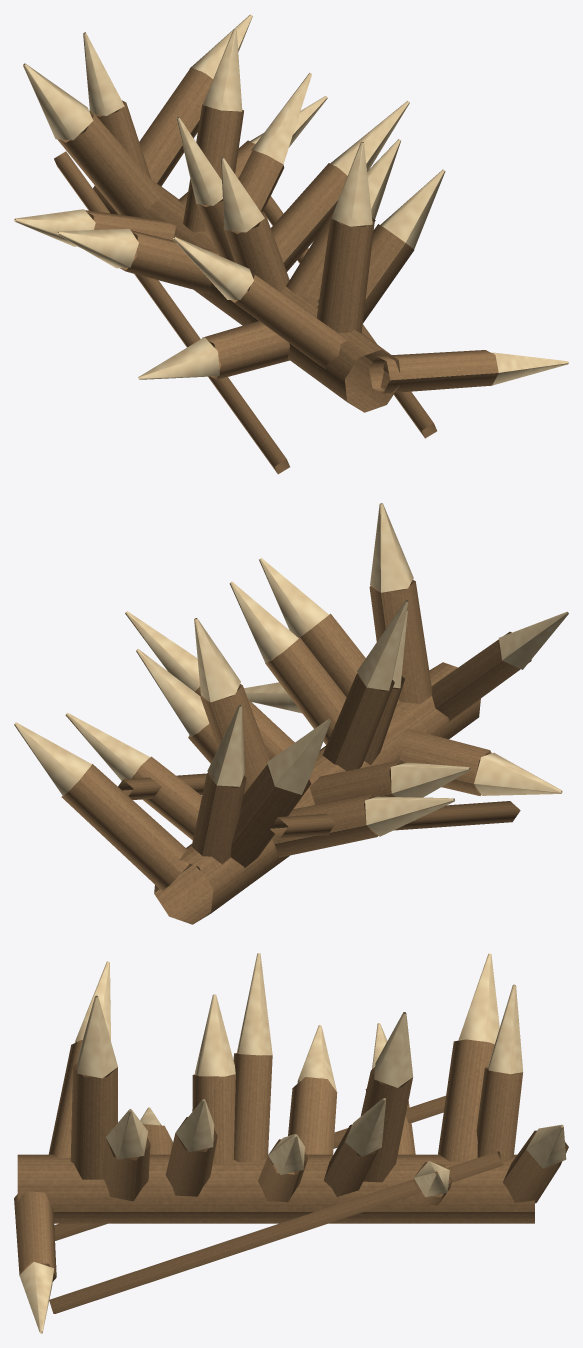
Rendered from fence_spike.glb.
3 renders of one model, top to bottom at view 1: azimuth 30°, elevation 25°; view 2: azimuth 150°, elevation 25°; view 3: azimuth 270°, elevation 25°, orthographic. The views are drawn at different scales.
Visible parts, largest first — view 1: fence_spike; view 2: fence_spike; view 3: fence_spike.
Part boxes in pixels (x1,y1,x2,y2): fence_spike: (14,14,568,474); fence_spike: (14,503,568,924); fence_spike: (14,953,568,1333).
Bounding box in the file's own units: 2.63 × 1.9 × 3.22.
1 material, 1 textured.
